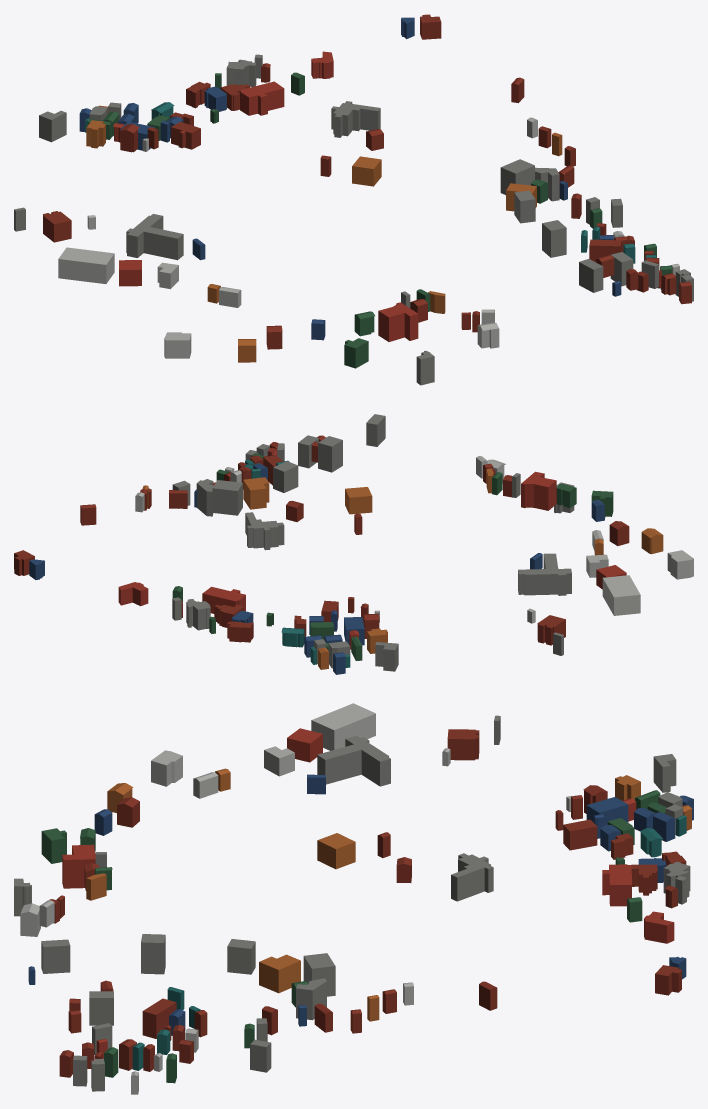
The model's file is near-16-54726-29738.4083a4e9.glb.
3 renders of one model, top to bottom at view 1: azimuth 30°, elevation 25°; view 2: azimuth 150°, elevation 25°; view 3: azimuth 270°, elevation 25°, orthographic. The views are drawn at different scales.
Size of the model in its own units: 606 by 122 by 586.
